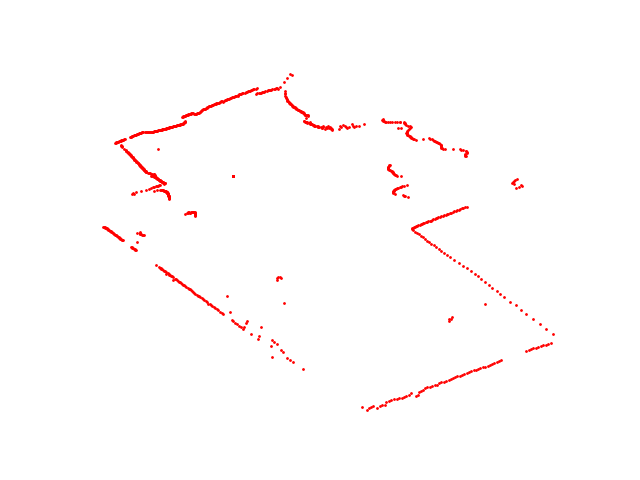person: (386, 161, 413, 199)
